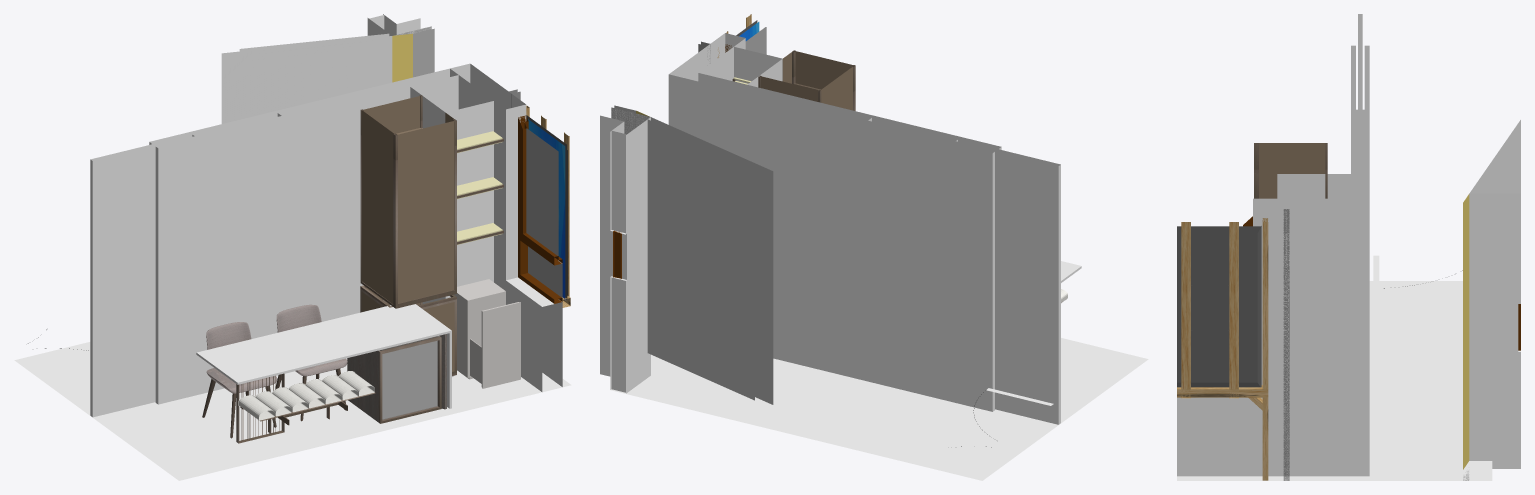
Rendered from kitchen.glb.
3 renders of one model, left to right at view 1: azimuth 30°, elevation 25°; view 2: azimuth 150°, elevation 25°; view 3: azimuth 270°, elevation 25°, orthographic. The views are drawn at different scales.
Visible parts, largest first — view 1: Group644, Group256, Group154, Mesh305, Group784, Group988, Group629, Group594, Group785, Group612, Group1012, Group615 (+16 smaller); view 2: Group644, Mesh305, Group256, Group154, Group2, Group594, Group629, Group43, Group42, Group784, Group785, Group794 (+1 smaller); view 3: Group594, Group256, Group2, Group1144, Group612, Mesh305, Group644, Group629, Group785, Group1081, Group1152, Group1183 (+6 smaller).
Boxes of the visible parts, bbox=[...] form: Group644: bbox=[149, 68, 458, 404]; Group256: bbox=[14, 342, 571, 480]; Group154: bbox=[90, 134, 194, 417]; Mesh305: bbox=[221, 33, 392, 123]; Group784: bbox=[397, 121, 454, 303]; Group988: bbox=[196, 304, 451, 408]; Group629: bbox=[410, 75, 493, 303]; Group594: bbox=[450, 63, 526, 290]; Group785: bbox=[362, 110, 394, 303]; Group612: bbox=[506, 277, 562, 391]; Group1012: bbox=[382, 340, 437, 419]; Group615: bbox=[526, 128, 558, 255]; Group644: bbox=[689, 73, 1001, 411]; Mesh305: bbox=[647, 117, 773, 404]; Group256: bbox=[611, 338, 1148, 480]; Group154: bbox=[955, 139, 1060, 424]; Group2: bbox=[600, 108, 650, 392]; Group594: bbox=[668, 33, 745, 133]; Group629: bbox=[698, 47, 782, 93]; Group43: bbox=[610, 276, 626, 393]; Group42: bbox=[610, 130, 626, 234]; Group784: bbox=[795, 51, 853, 89]; Group785: bbox=[820, 67, 852, 110]; Group794: bbox=[761, 76, 818, 101]; Group594: bbox=[1253, 198, 1369, 476]; Group256: bbox=[1177, 281, 1492, 480]; Group2: bbox=[1469, 193, 1518, 480]; Group1144: bbox=[1177, 226, 1261, 387]; Group612: bbox=[1177, 397, 1252, 476]; Mesh305: bbox=[1469, 120, 1520, 434]; Group644: bbox=[1351, 45, 1369, 208]; Group629: bbox=[1277, 174, 1350, 208]; Group785: bbox=[1259, 143, 1325, 173]; Group1081: bbox=[1463, 194, 1469, 480]; Group1152: bbox=[1283, 209, 1289, 480]; Group1183: bbox=[1181, 222, 1190, 398].
Size of the model in its own units: 3.85 by 2.42 by 2.8.
24 materials, 8 textured.
